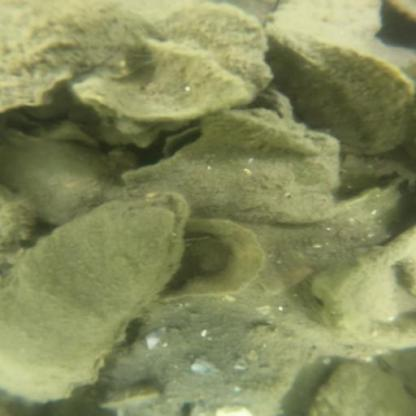Oyster- Indeterminate: (0, 196, 191, 411), (80, 41, 258, 146)
Oyster-Closed: (122, 110, 352, 223), (108, 302, 315, 416), (267, 22, 415, 149), (5, 0, 150, 110), (143, 2, 273, 95), (7, 131, 108, 224), (276, 0, 416, 66), (200, 110, 320, 158), (310, 362, 415, 416), (0, 183, 34, 247)
